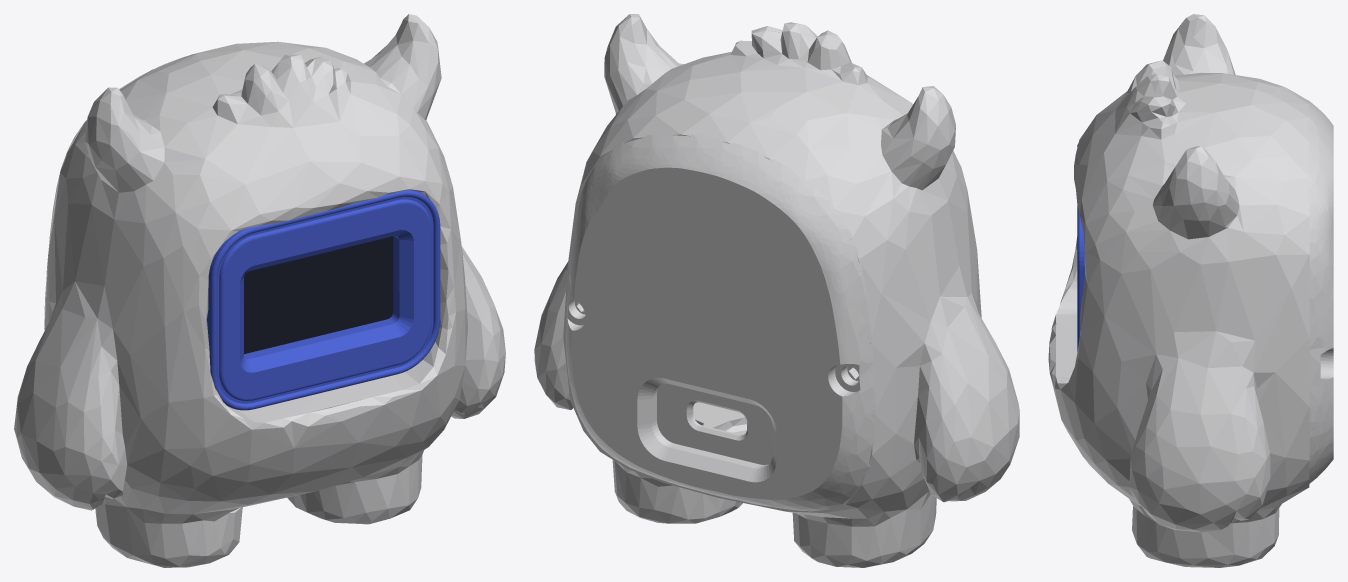
The model's file is yetibot.glb.
The picture shows the model from 3 angles, left to right: view 1: azimuth 30°, elevation 25°; view 2: azimuth 150°, elevation 25°; view 3: azimuth 270°, elevation 25°; orthographic projection. The views are drawn at different scales.
Parts seen in each view (by area): view 1: body, bezel, screen; view 2: body, back_panel; view 3: body, back_panel, bezel.
Part boxes in pixels (box(x1,y1,x2,y2)): body: box(14, 14, 505, 567); bezel: box(207, 190, 440, 410); screen: box(244, 236, 393, 354); body: box(534, 14, 1019, 567); back_panel: box(566, 133, 875, 511); body: box(1048, 14, 1309, 567); back_panel: box(1308, 100, 1333, 483); bezel: box(1077, 144, 1084, 351).
Bounding box in the file's own units: 1.5 × 1.49 × 0.8879.
